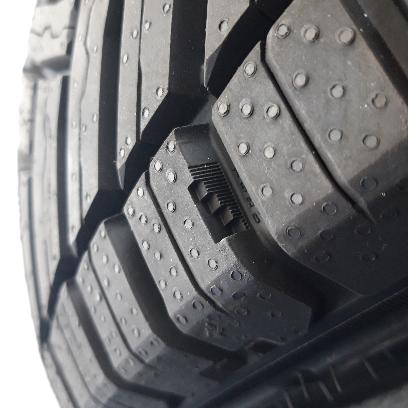temoin:100: (184, 159, 256, 247)
